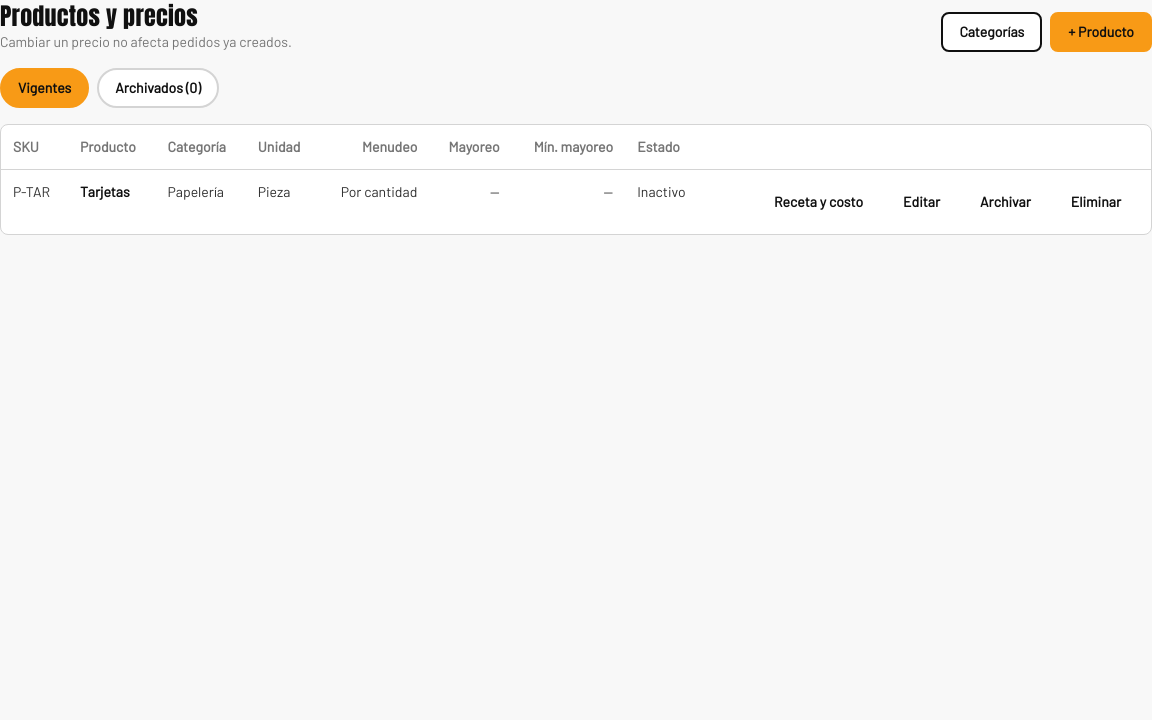
editar papelería: carga la tabla guardada
The image size is (1152, 720).
Click the button "Editar" at x=922, y=202, box [885, 182, 958, 222]
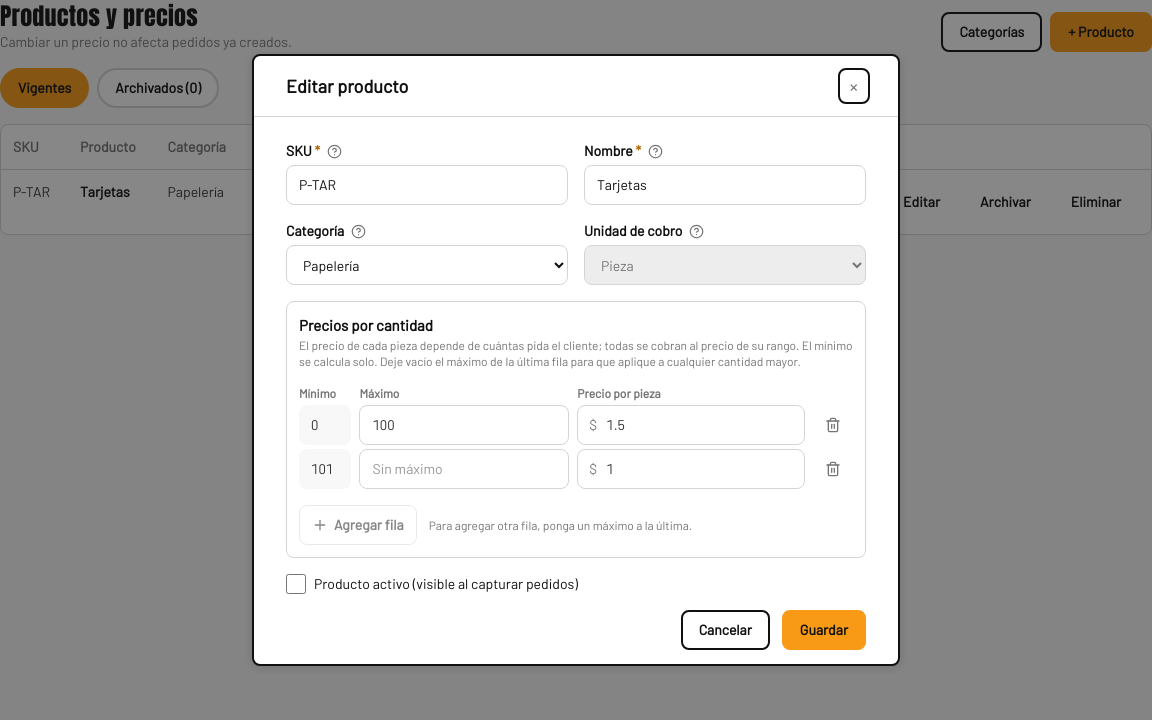
Expected: the element with test id "price-tiers" is shown, [286, 301, 866, 558]
Expected: the elements with test id "tier-min" read "0", "101", in this order, [299, 404, 352, 444]; [299, 448, 352, 488]
Expected: the checkbox with test id "product-active" is enabled, [286, 574, 306, 594]
